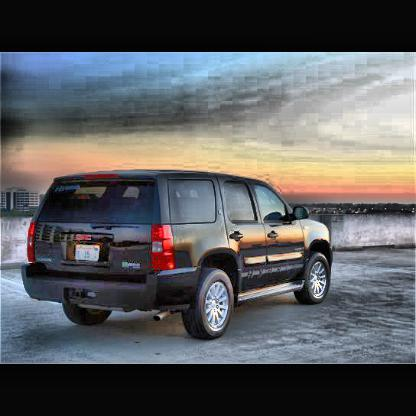GMC Yukon Hybrid SUV 2012: (23, 171, 334, 342)
